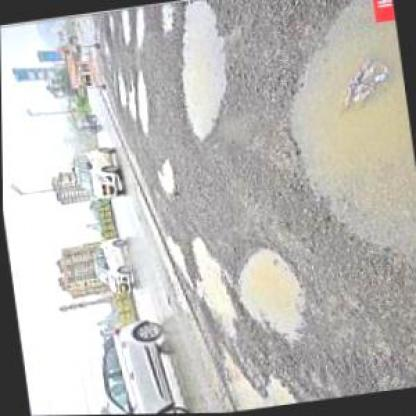pothole: (229, 242, 308, 346), (183, 233, 239, 336), (130, 71, 152, 133), (151, 157, 176, 197), (112, 68, 126, 108)
